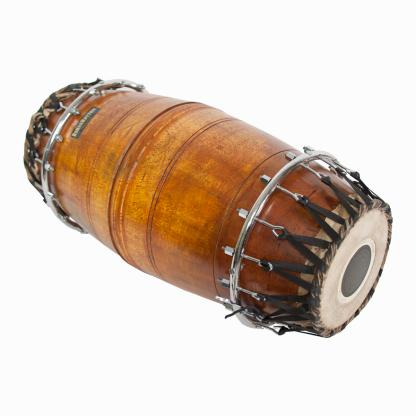Mridangam: (18, 61, 406, 361)
